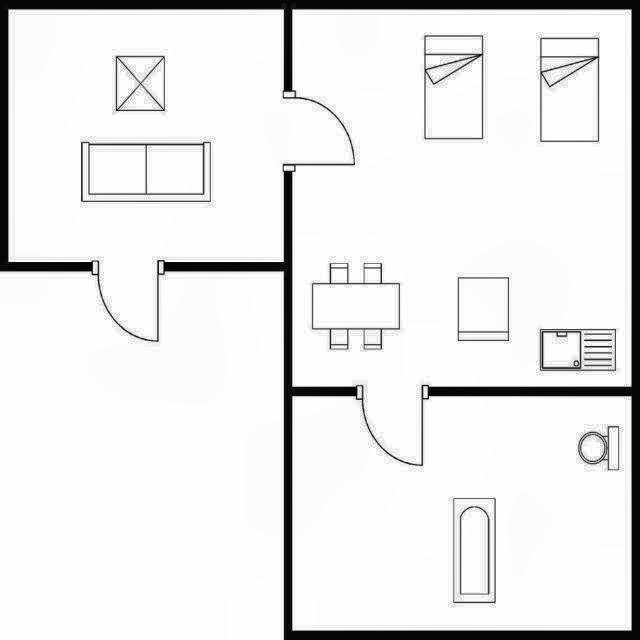room: (292, 10, 631, 387), (292, 397, 631, 630), (9, 12, 284, 262)
